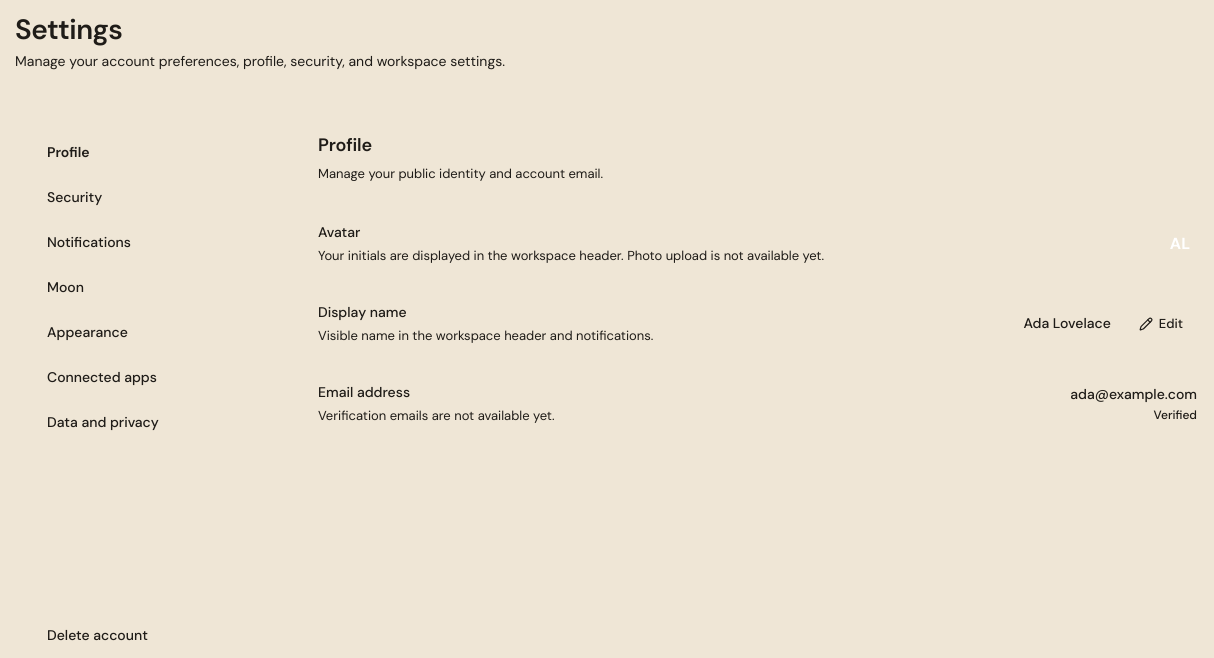
Settings Hub — Phase 1 › Display Name Inline Edit › cancels edit mode on Escape key without updating
Step 1. Click the button with aria-label "Edit Display name" → (1161, 324), box [1125,308,1197,340]
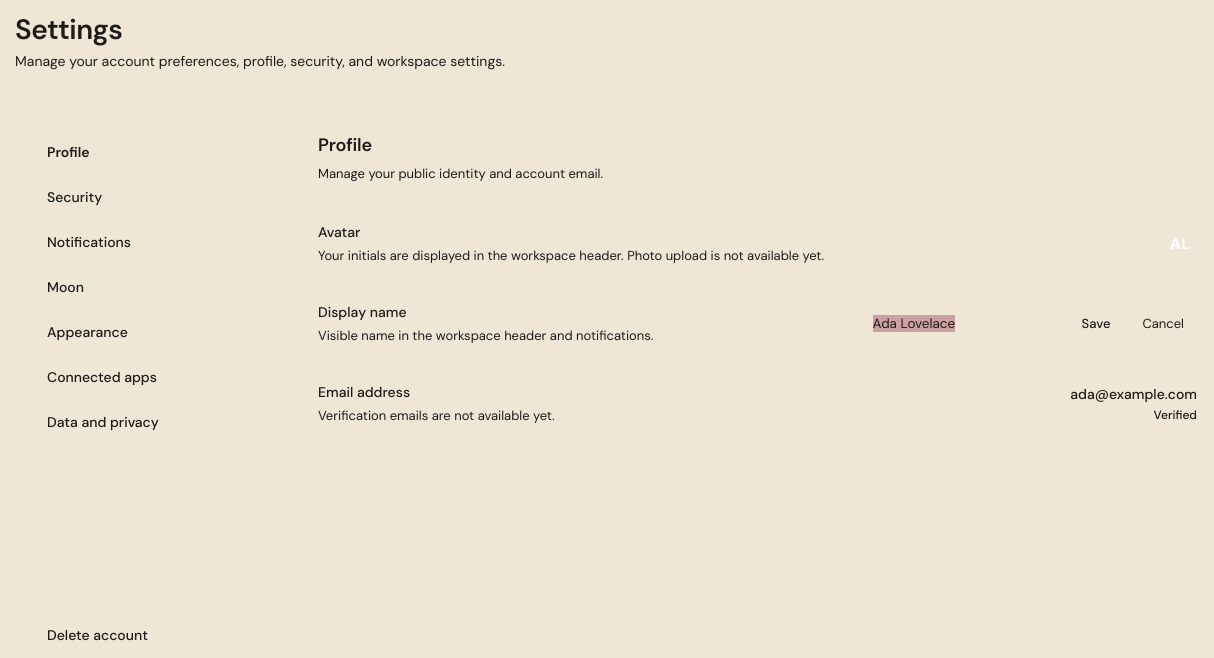
Step 2. Replace the text in the field labelled "Display name" with "Changed Name" → (960, 324), box [860,307,1060,341]
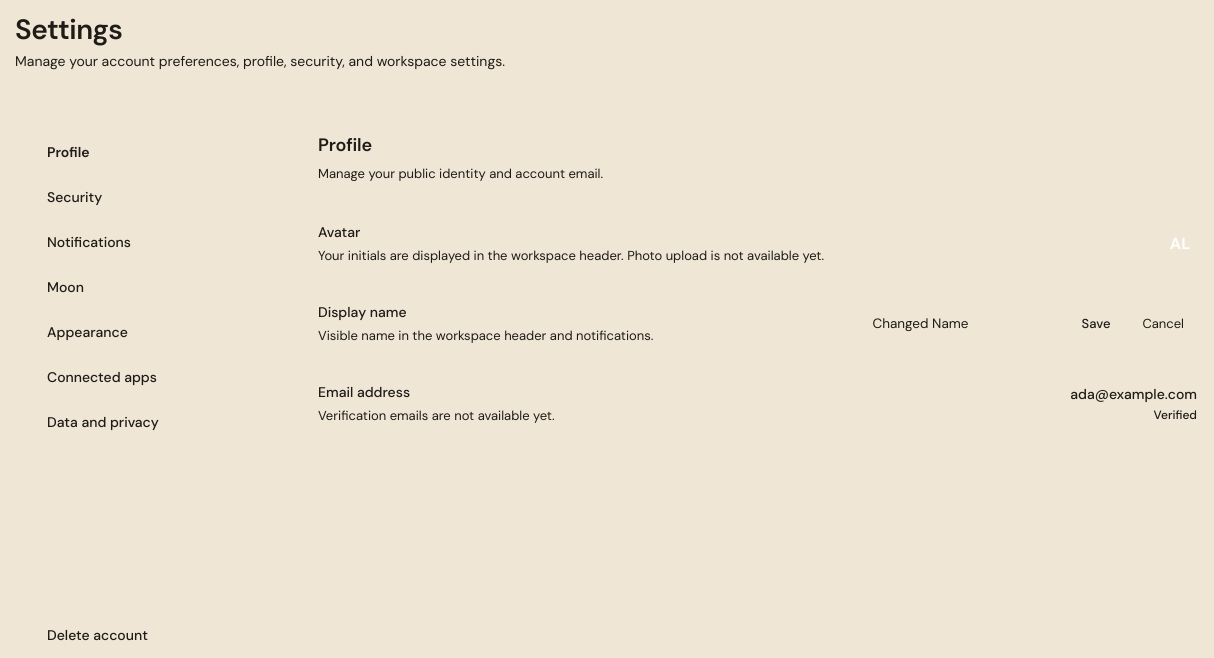
Step 3. Press Escape in the field labelled "Display name", box [860,307,1060,341]
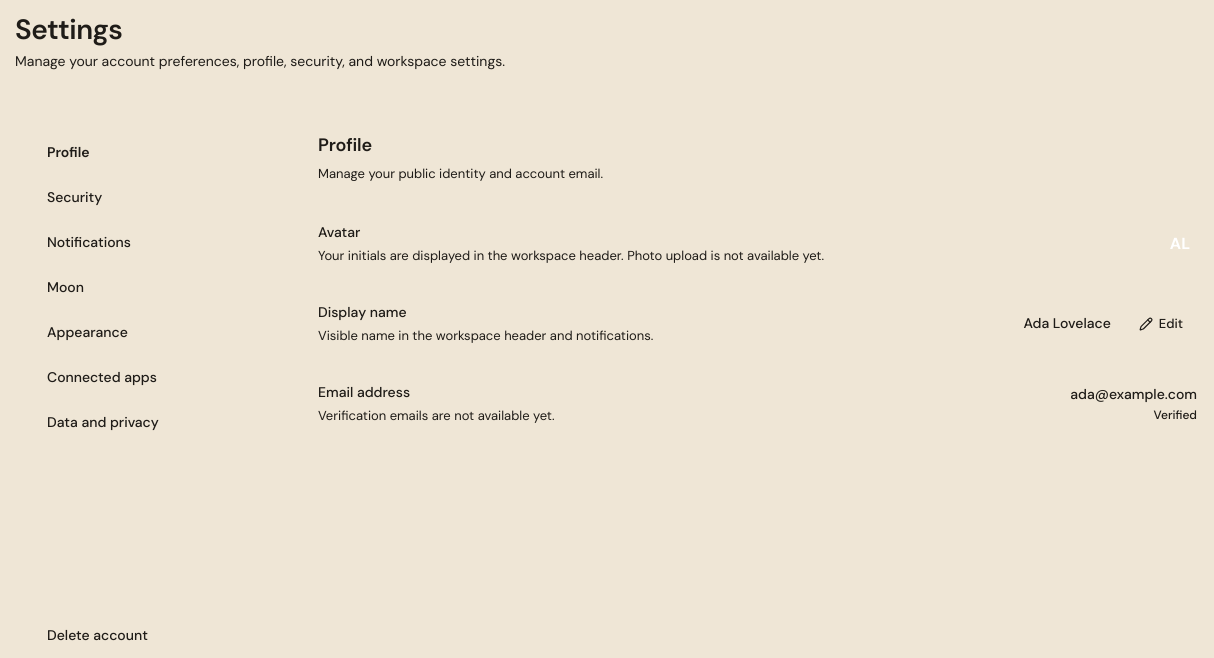
expect the text "Ada Lovelace" is shown: met, box [1023,313,1111,334]
